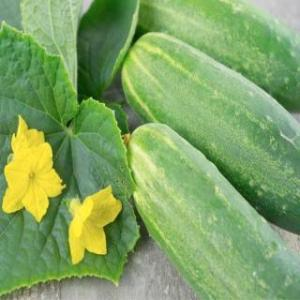cucumber: (120, 29, 300, 228), (123, 119, 300, 299), (136, 1, 300, 112)
